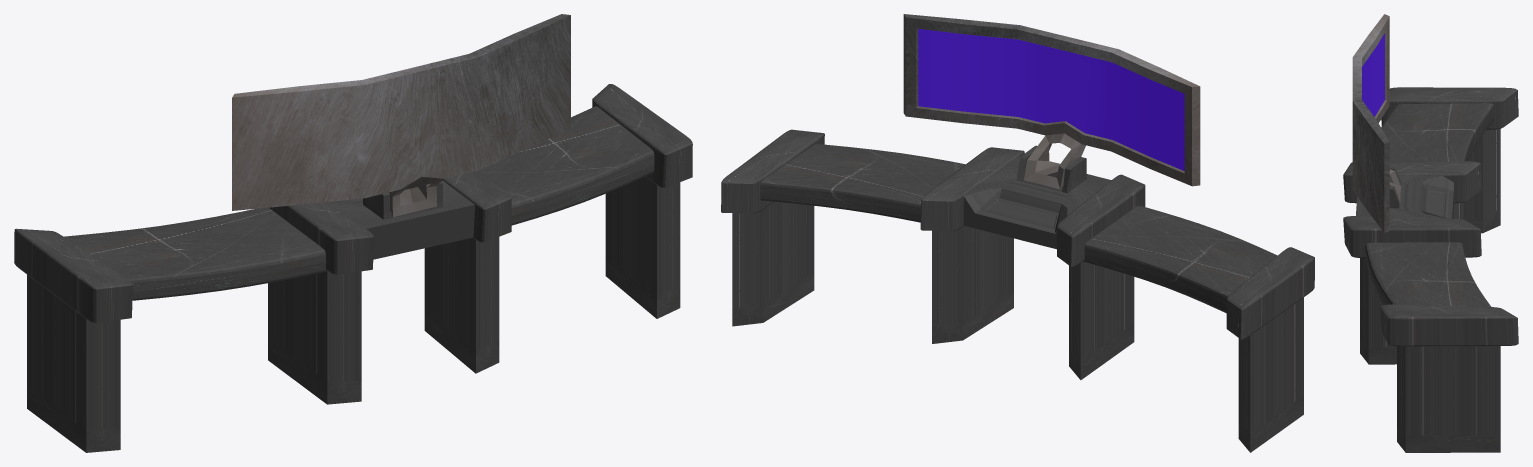
Rendered from Computador y Mesa.fbx.
3 views of the same model, side by side, from view 1: azimuth 30°, elevation 25°; view 2: azimuth 150°, elevation 25°; view 3: azimuth 270°, elevation 25° (orthographic). The views are drawn at different scales.
Parts seen in each view (by area): view 1: Plane.002; view 2: Plane.002; view 3: Plane.002.
Part boxes in pixels (x1,y1,x2,y2): Plane.002: [14, 14, 692, 452]; Plane.002: [721, 14, 1314, 452]; Plane.002: [1343, 14, 1518, 452].
Bounding box in the file's own units: 776 × 410 × 249.
Materials: 3 (2 with a texture image).
